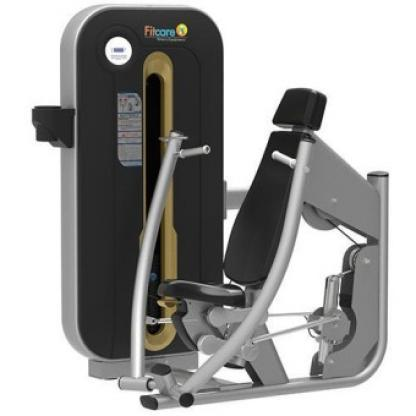Chest Press machine: (27, 2, 395, 416)
